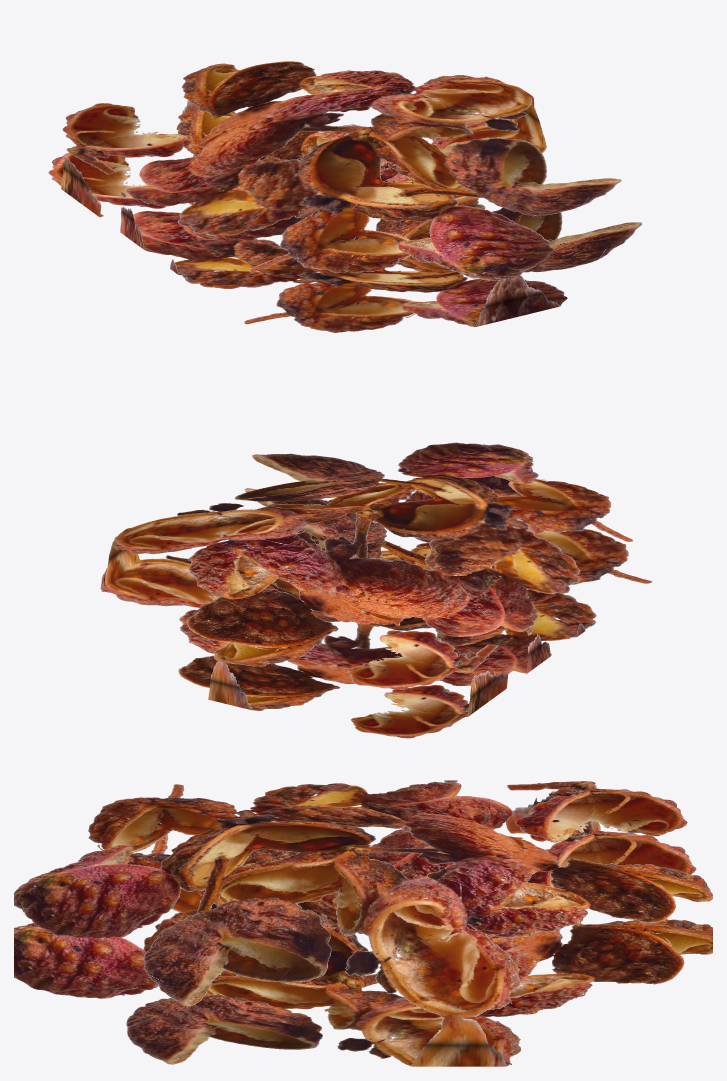
Rendered from pepperCorn.fbx.
3 renders of one model, top to bottom at view 1: azimuth 30°, elevation 25°; view 2: azimuth 150°, elevation 25°; view 3: azimuth 270°, elevation 25°, orthographic. The views are drawn at different scales.
Parts seen in each view (by area): view 1: peppercorn1; view 2: peppercorn1; view 3: peppercorn1.
Boxes of the visible parts, x1,y1,x2,y2 form: peppercorn1: (48,61,641,333); peppercorn1: (100,442,652,738); peppercorn1: (14,780,712,1066).
Size of the model in its own units: 43.38 by 11.54 by 53.97.
